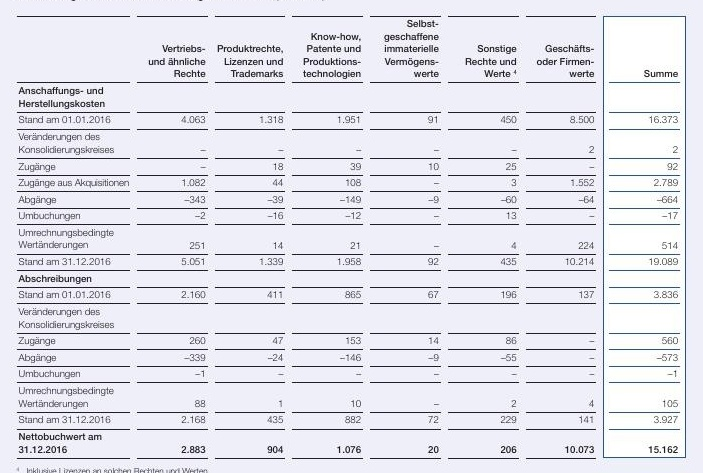table: (0, 0, 703, 473)
